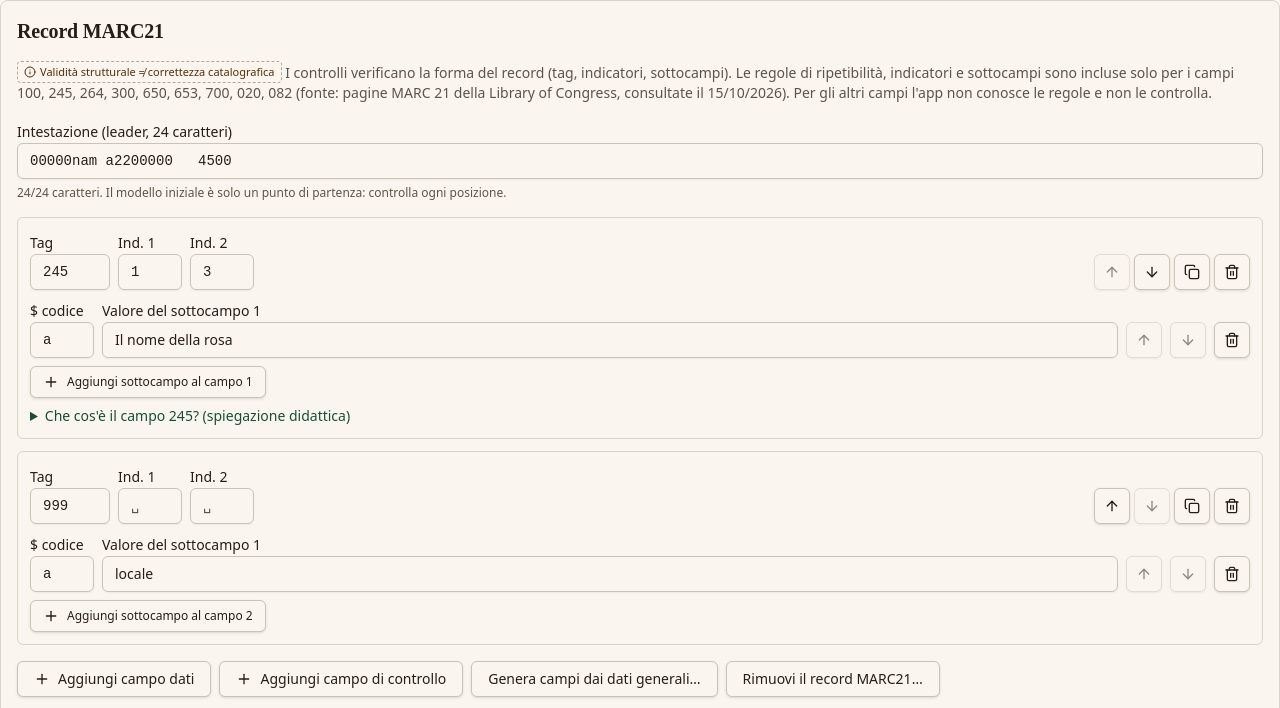
Test: Spiegazione contestuale nell'editor MARC › per un campo documentato spiega indicatori e sottocampi correnti; per un campo ignoto non mostra spiegazioni
Click the heading "Che cos'è il campo 245? (spiegazione didattica)": (197, 415) [45, 406, 350, 425]
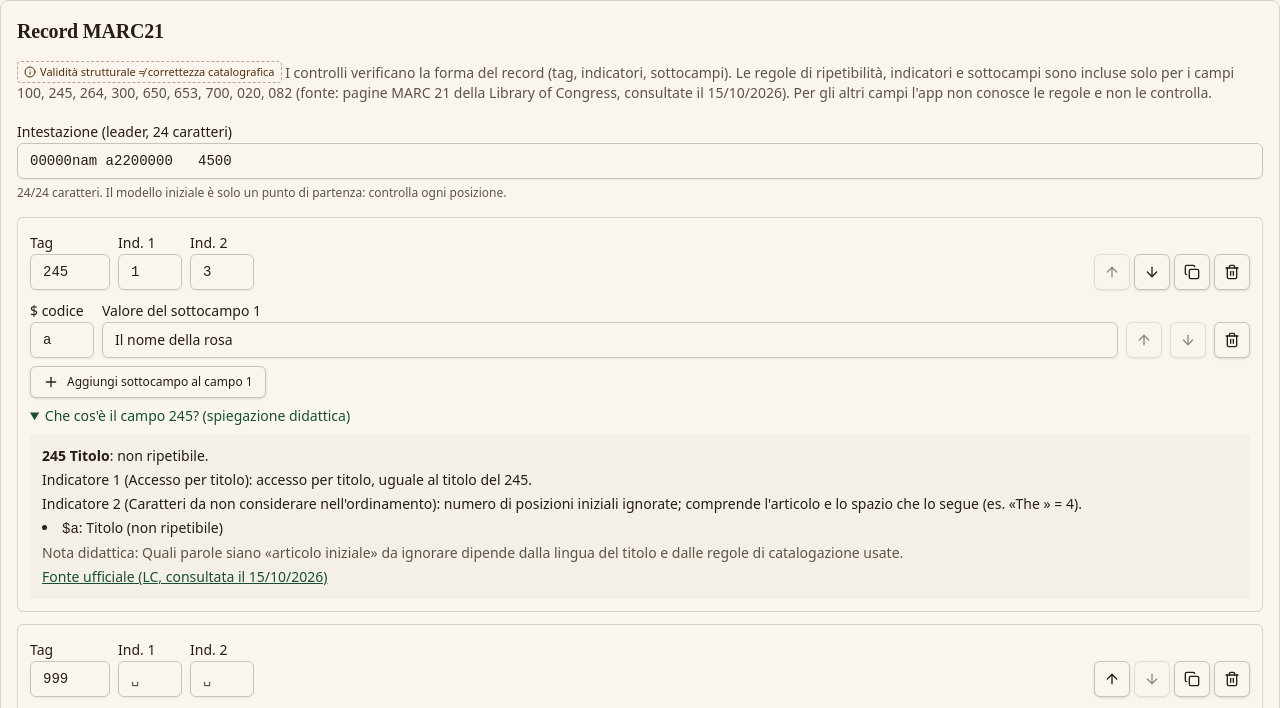
Now the text "Indicatore 2 (Caratteri da non considerare" shows "numero di posizioni iniziali ignorate", box [444, 494, 1078, 513]
Now the list item "$a: Titolo (non ripetibile)" is shown, box [62, 518, 223, 537]
